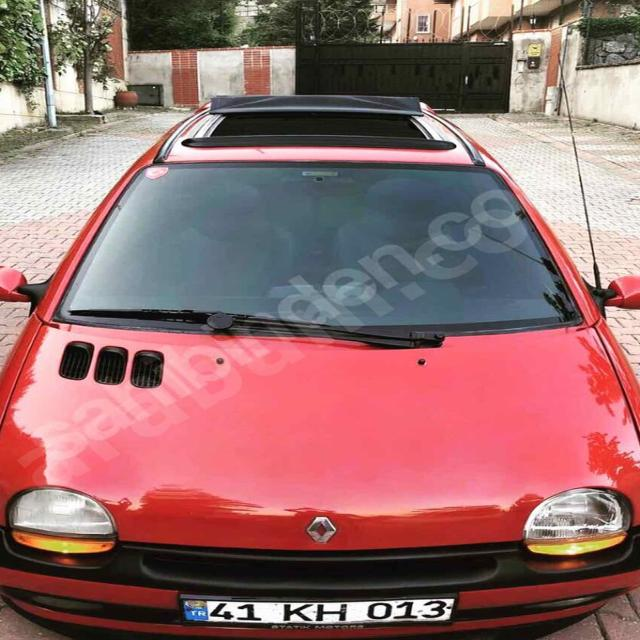license_plate: (180, 598, 455, 623)
